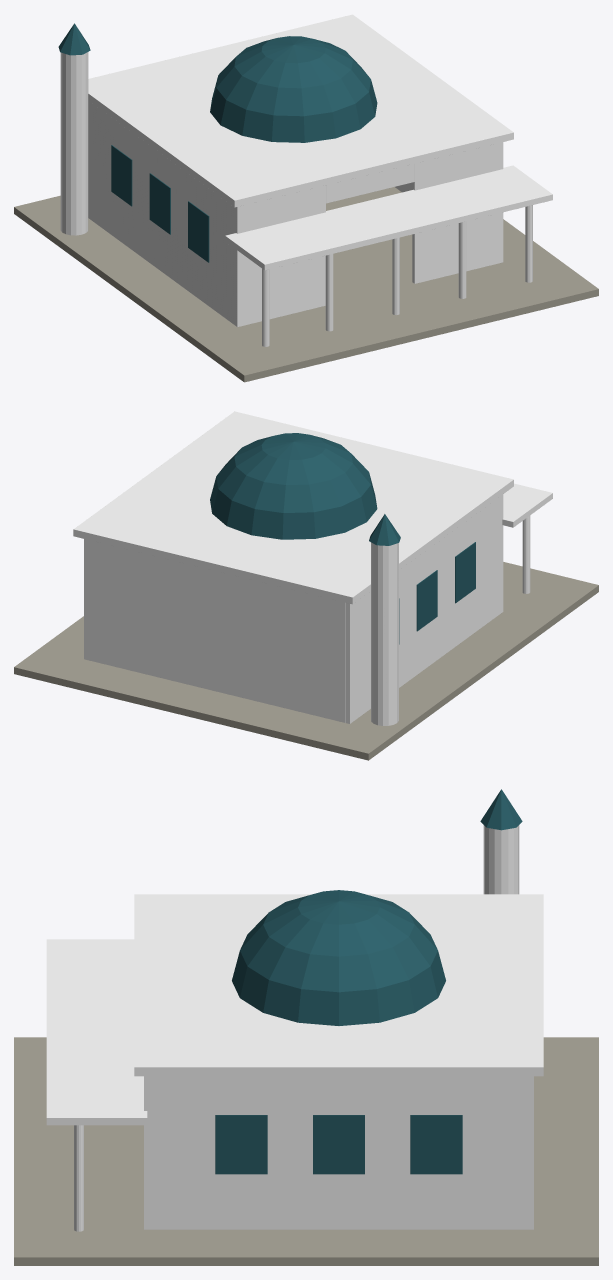
File: source-edit.glb
The picture shows the model from 3 angles, top to bottom: view 1: azimuth 30°, elevation 25°; view 2: azimuth 150°, elevation 25°; view 3: azimuth 270°, elevation 25°; orthographic projection. The views are drawn at different scales.
Parts seen in each view (by area): view 1: Foundation, Flat_Roof, Hall_Side, Dome, Arcade_Roof, Entrance_Wing, Entrance_Wing.001, Minaret, Entrance_Header, Window, Window.001, Window.002 (+7 smaller); view 2: Flat_Roof, Rear_Wall, Foundation, Dome, Hall_Side, Minaret, Arcade_Roof, Window.001, Window, Arcade_Column.001, Minaret_Cap, Hall_Side.001; view 3: Flat_Roof, Hall_Side.001, Foundation, Dome, Arcade_Roof, Window.003, Window.005, Window.004, Minaret, Arcade_Column, Minaret_Cap.
Boxes of the visible parts, left/top/right/bottom form: Foundation: left=14, top=187, right=598, bottom=382; Flat_Roof: left=88, top=14, right=513, bottom=207; Hall_Side: left=88, top=100, right=241, bottom=327; Dome: left=210, top=36, right=377, bottom=142; Arcade_Roof: left=225, top=165, right=552, bottom=270; Entrance_Wing: left=242, top=185, right=325, bottom=325; Entrance_Wing.001: left=412, top=143, right=498, bottom=283; Minaret: left=60, top=52, right=88, bottom=235; Entrance_Header: left=326, top=163, right=414, bottom=203; Window: left=188, top=201, right=209, bottom=262; Window.001: left=149, top=173, right=170, bottom=234; Window.002: left=111, top=145, right=132, bottom=206; Flat_Roof: left=73, top=411, right=513, bottom=604; Rear_Wall: left=88, top=540, right=345, bottom=722; Foundation: left=14, top=562, right=598, bottom=760; Dome: left=210, top=433, right=377, bottom=539; Hall_Side: left=345, top=494, right=503, bottom=723; Minaret: left=371, top=542, right=398, bottom=725; Arcade_Roof: left=502, top=483, right=552, bottom=527; Window.001: left=416, top=570, right=437, bottom=631; Window: left=455, top=542, right=475, bottom=603; Arcade_Column.001: left=522, top=515, right=530, bottom=593; Minaret_Cap: left=369, top=514, right=400, bottom=545; Hall_Side.001: left=84, top=539, right=88, bottom=659; Flat_Roof: left=134, top=894, right=543, bottom=1076; Hall_Side.001: left=144, top=1076, right=533, bottom=1229; Foundation: left=14, top=1037, right=598, bottom=1265; Dome: left=232, top=890, right=445, bottom=1025; Arcade_Roof: left=46, top=939, right=147, bottom=1125; Window.003: left=215, top=1115, right=267, bottom=1174; Window.005: left=410, top=1115, right=462, bottom=1174; Window.004: left=313, top=1115, right=364, bottom=1174; Minaret: left=483, top=825, right=519, bottom=894; Arcade_Column: left=74, top=1125, right=83, bottom=1231; Minaret_Cap: left=480, top=789, right=522, bottom=830.
Size of the model in its own units: 16 by 9.2 by 18.
